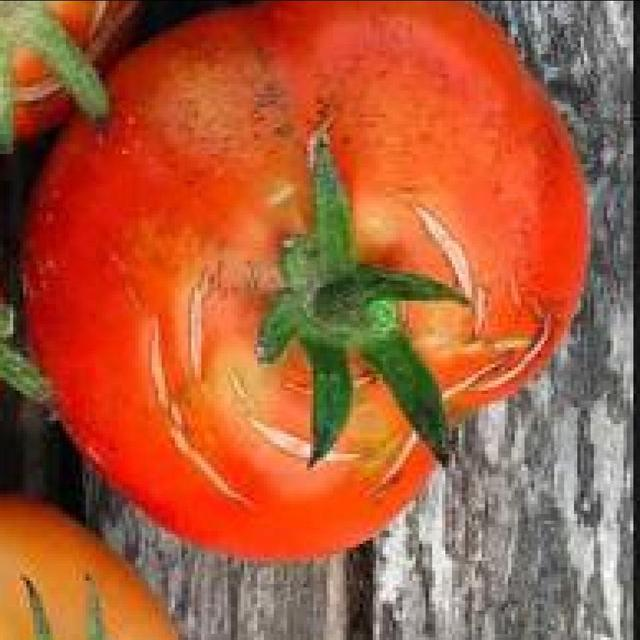Cracking Fruit: (103, 117, 318, 269)
